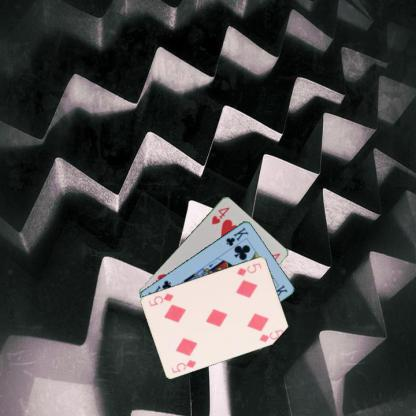4h: (208, 204, 230, 225)
5d: (168, 356, 198, 374), (234, 260, 263, 277)
Kc: (224, 225, 250, 247)
